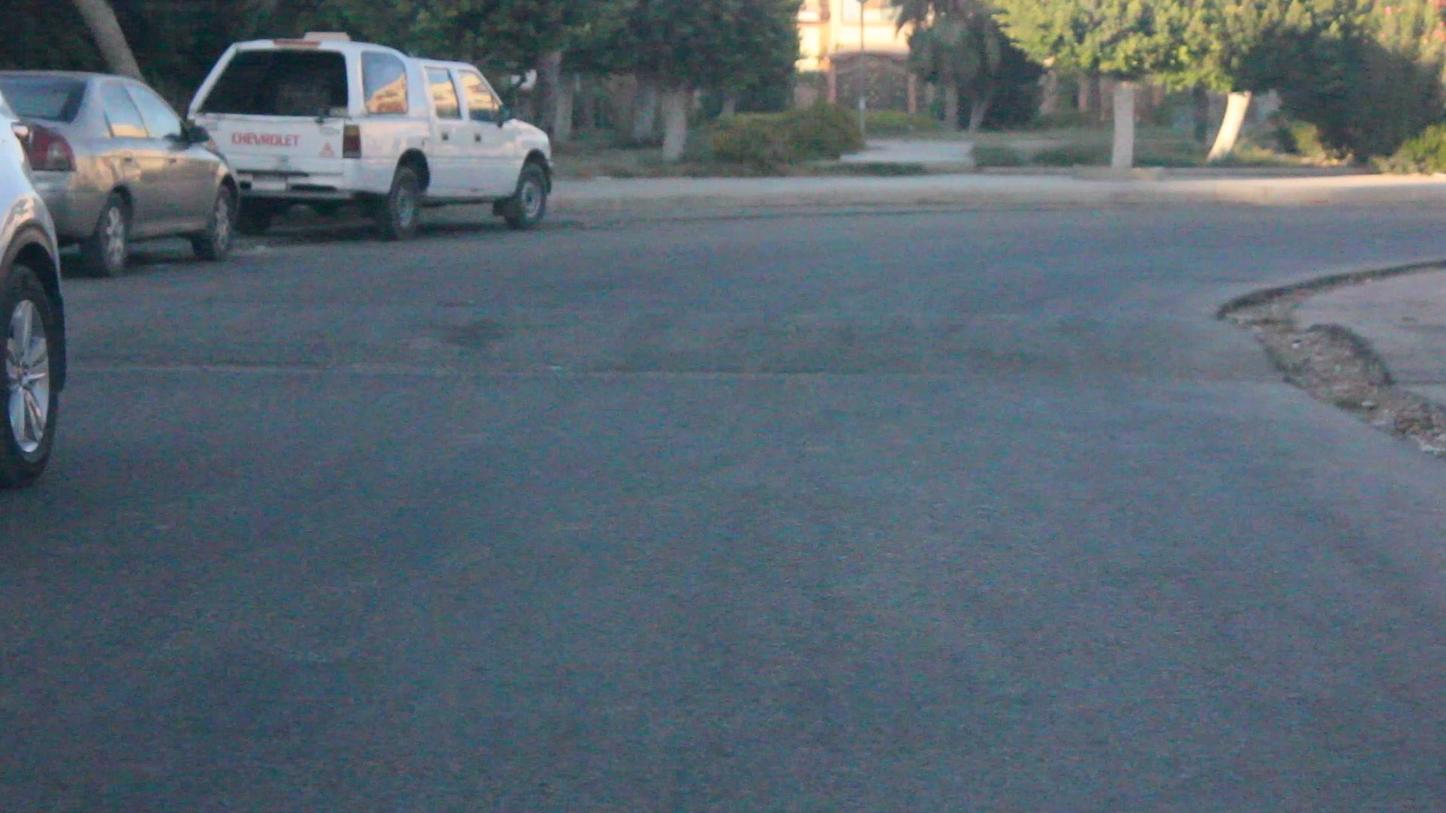Bump: (67, 282, 1276, 386)
